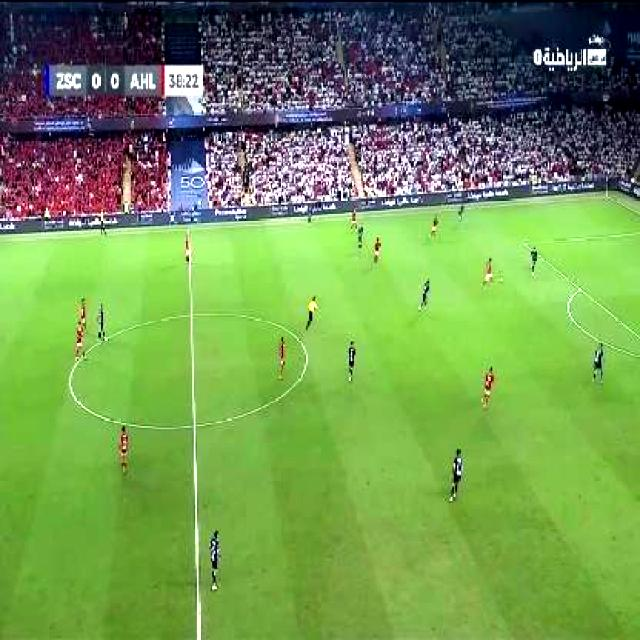bigarea_top_inner: (517, 236, 529, 250)
corner: (598, 189, 612, 202)
halfcircle_bottom: (183, 411, 203, 437)
halfcircle_top: (180, 302, 202, 326)
top_arc_area_intersection: (572, 280, 585, 294)
